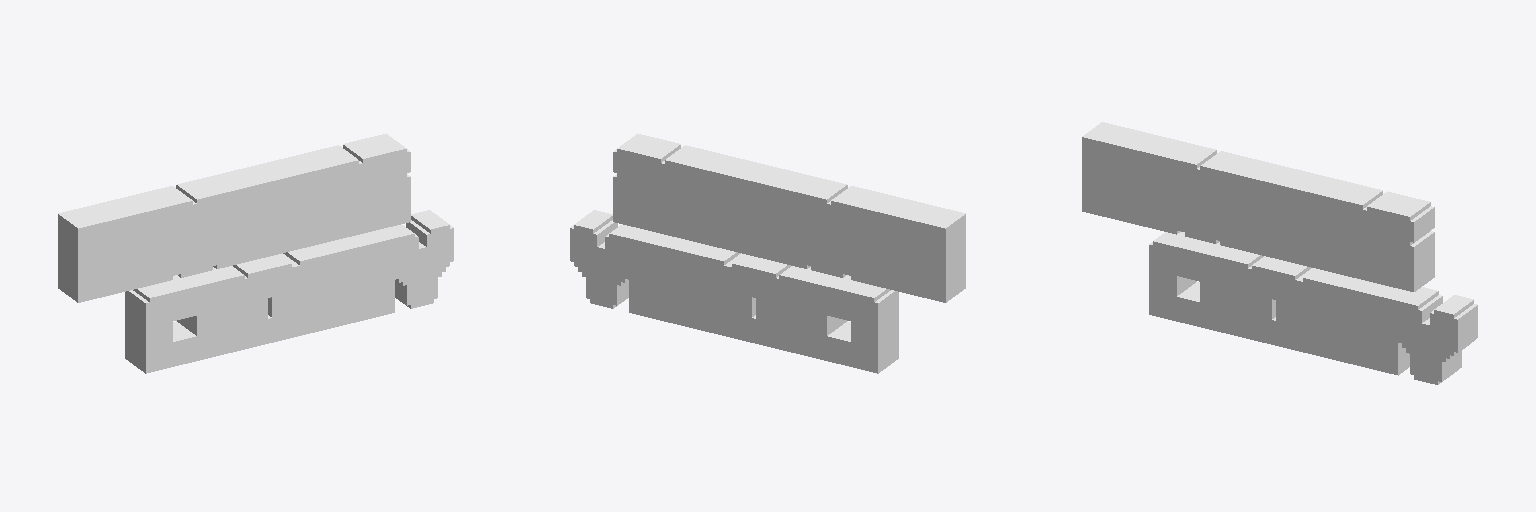
File: reverseCrossy.obj
3 renders of one model, left to right at view 1: azimuth 30°, elevation 25°; view 2: azimuth 150°, elevation 25°; view 3: azimuth 330°, elevation 25°, orthographic.
Size of the model in its own units: 95 by 39 by 9.